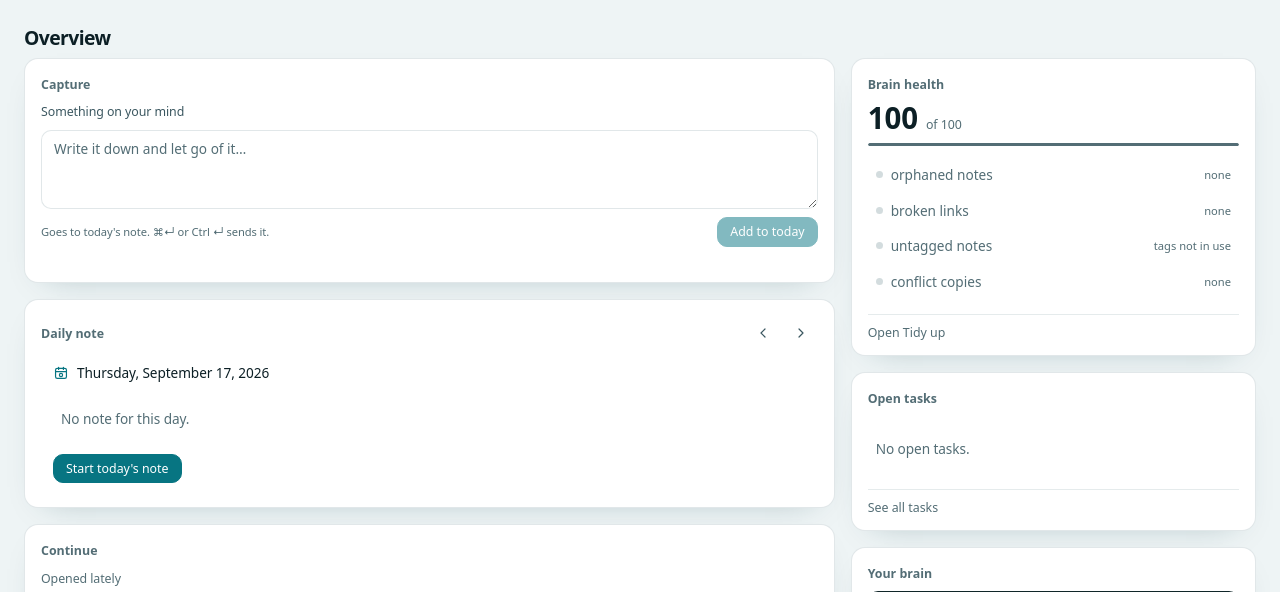
Test: the home card › offers to start today when there is no note, and pages to yesterday
Click the button "Start today's note" at (117, 468), box [53,454,182,483]
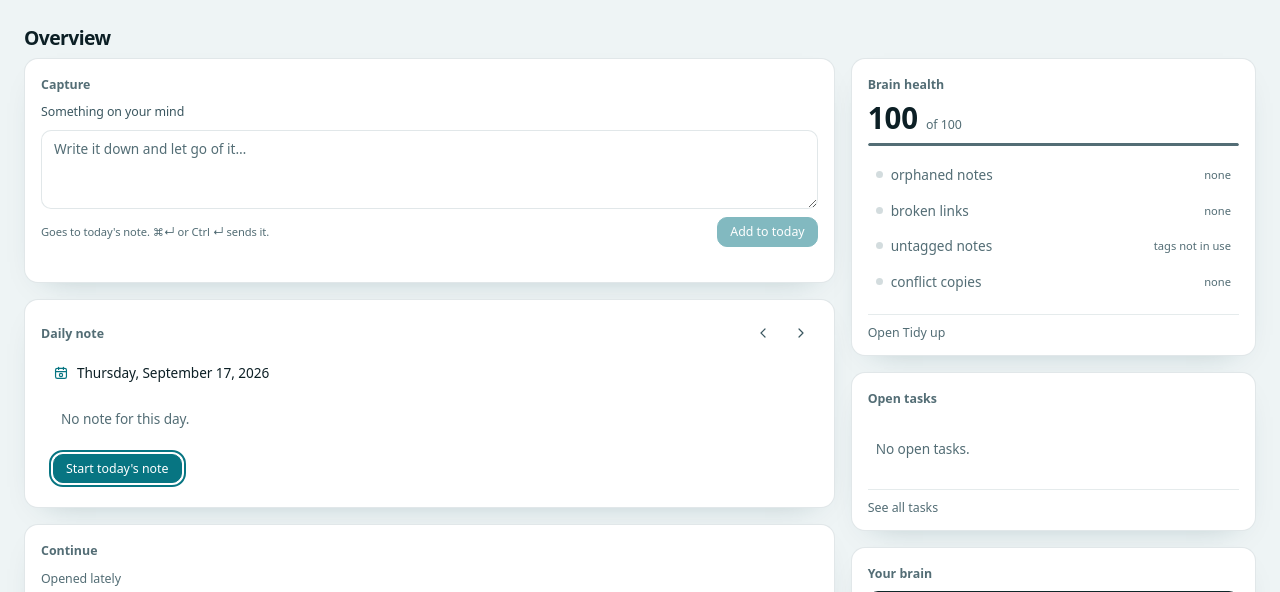
Click the button named "Previous day" at (763, 334), box [746,316,780,350]
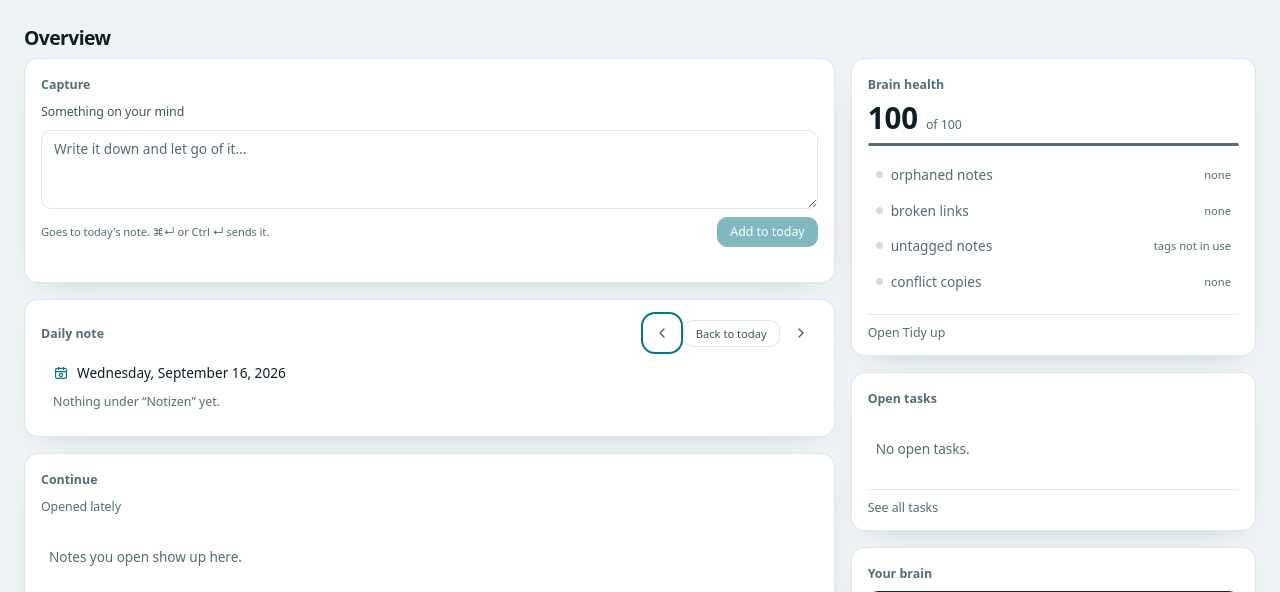
Now the text "Nothing under “Notizen” yet." is shown, box [53,392,220,412]
Now the text "Wednesday, September 16, 2026" is shown, box [53,362,286,384]
Click the button named "Next day" at (801, 334), box [784,316,818,350]
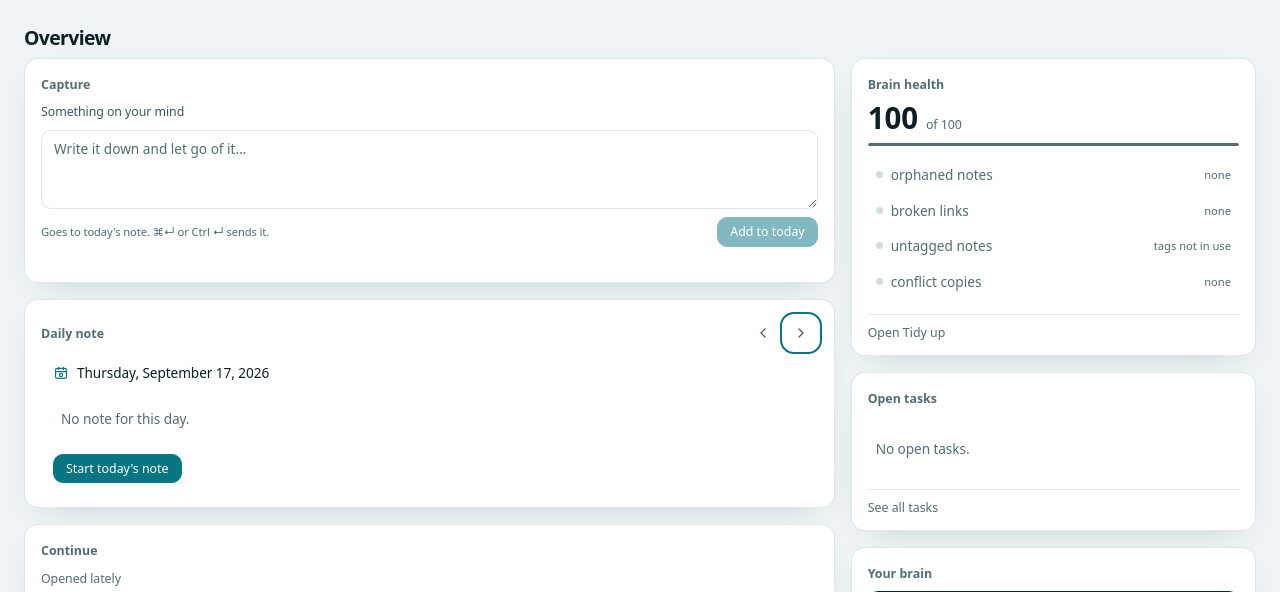
Click the button named "Next day" at (801, 334), box [784,316,818,350]
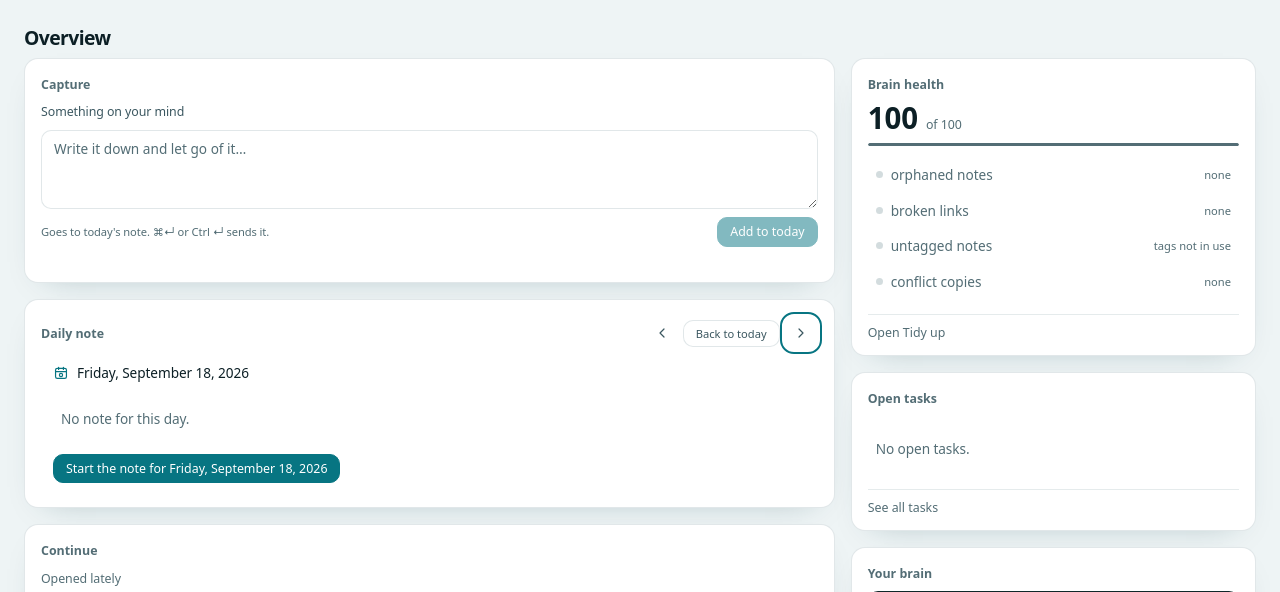
Click the button "Start the note for Friday, September 18, 2026" at (197, 468), box [53,454,340,483]
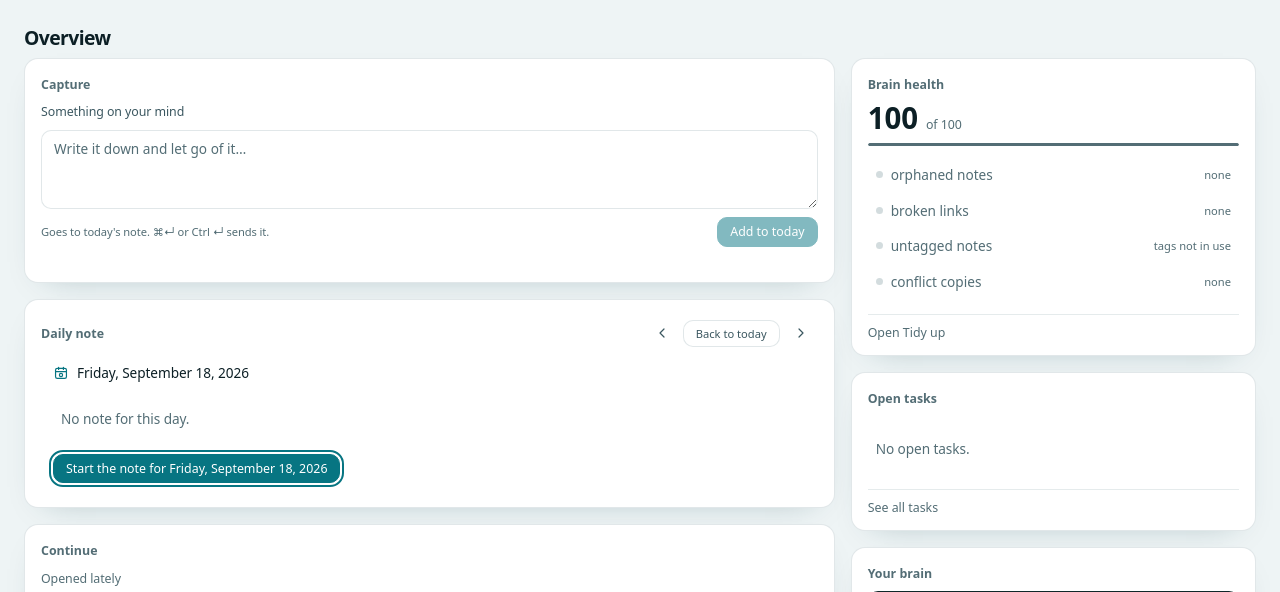
Click the button "Back to today" at (731, 333), box [683,320,780,347]
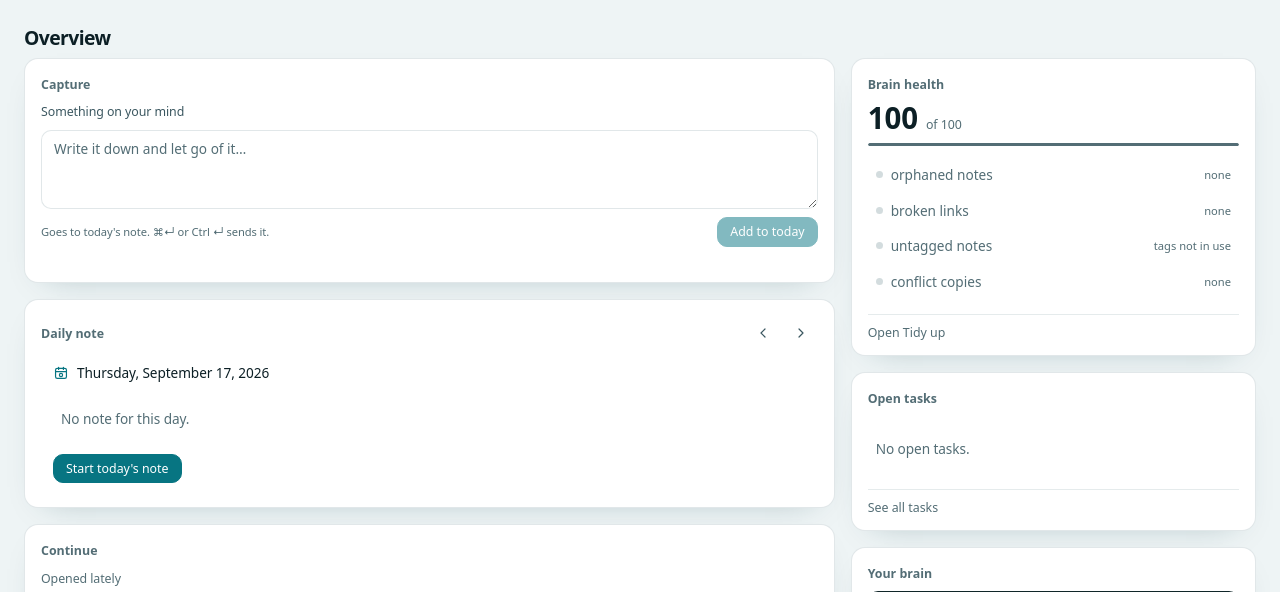
Now the button "Start today's note" is shown, box [53,454,182,483]
